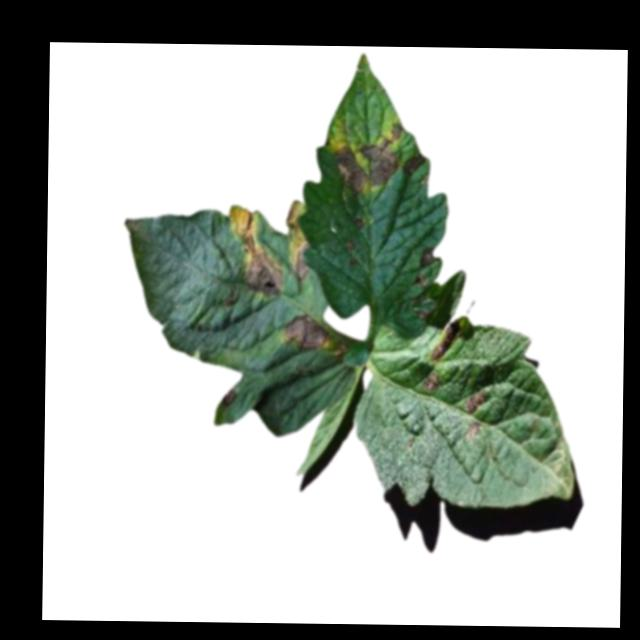Early_blight: (227, 205, 286, 296), (330, 122, 403, 195), (283, 314, 328, 347), (432, 324, 462, 361), (294, 238, 311, 280), (403, 151, 427, 178), (465, 390, 489, 414), (285, 199, 301, 233), (419, 247, 438, 270), (422, 372, 442, 393), (467, 420, 481, 441), (222, 389, 236, 406), (352, 216, 365, 231), (344, 239, 357, 252)
